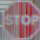Stop: (4, 6, 39, 35)
